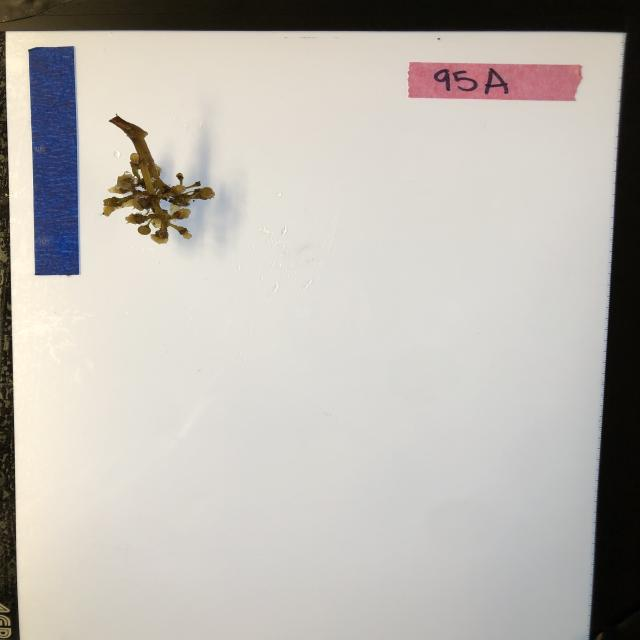index: (407, 60, 585, 104)
measure_label: (28, 44, 80, 276)
rachis_cluster: (104, 113, 215, 244)
